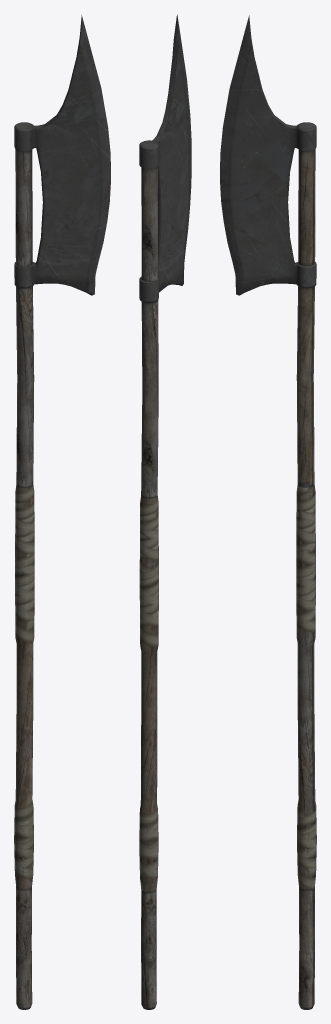
The model's file is prop_halberd_01.glb.
3 views of the same model, side by side, from view 1: azimuth 90°, elevation 25°; view 2: azimuth 150°, elevation 25°; view 3: azimuth 270°, elevation 25° (orthographic). The views are drawn at different scales.
Parts seen in each view (by area): view 1: prop_halberd_01; view 2: prop_halberd_01; view 3: prop_halberd_01.
Boxes of the visible parts, x1,y1,x2,y2 form: prop_halberd_01: [14, 15, 110, 1009]; prop_halberd_01: [139, 14, 191, 1009]; prop_halberd_01: [220, 15, 316, 1009].
Bounding box in the file's own units: 0.0563 × 3.07 × 0.2717.
1 material, 1 textured.
